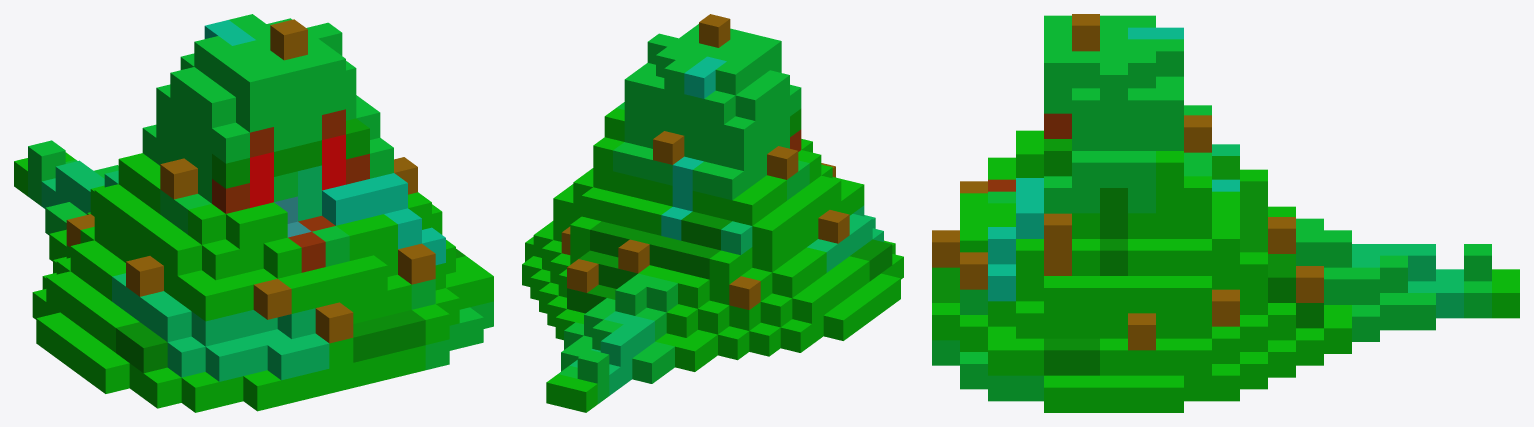
Rendered from ooze.fbx.
3 views of the same model, side by side, from view 1: azimuth 30°, elevation 25°; view 2: azimuth 150°, elevation 25°; view 3: azimuth 270°, elevation 25° (orthographic). The views are drawn at different scales.
Parts seen in each view (by area): view 1: 对象; view 2: 对象; view 3: 对象.
Part boxes in pixels (left/top/right/bottom): 对象: left=14, top=14, right=493, bottom=412; 对象: left=522, top=14, right=903, bottom=412; 对象: left=932, top=14, right=1519, bottom=412.
Bounding box in the file's own units: 16 × 12 × 21.
1 material, 1 textured.
